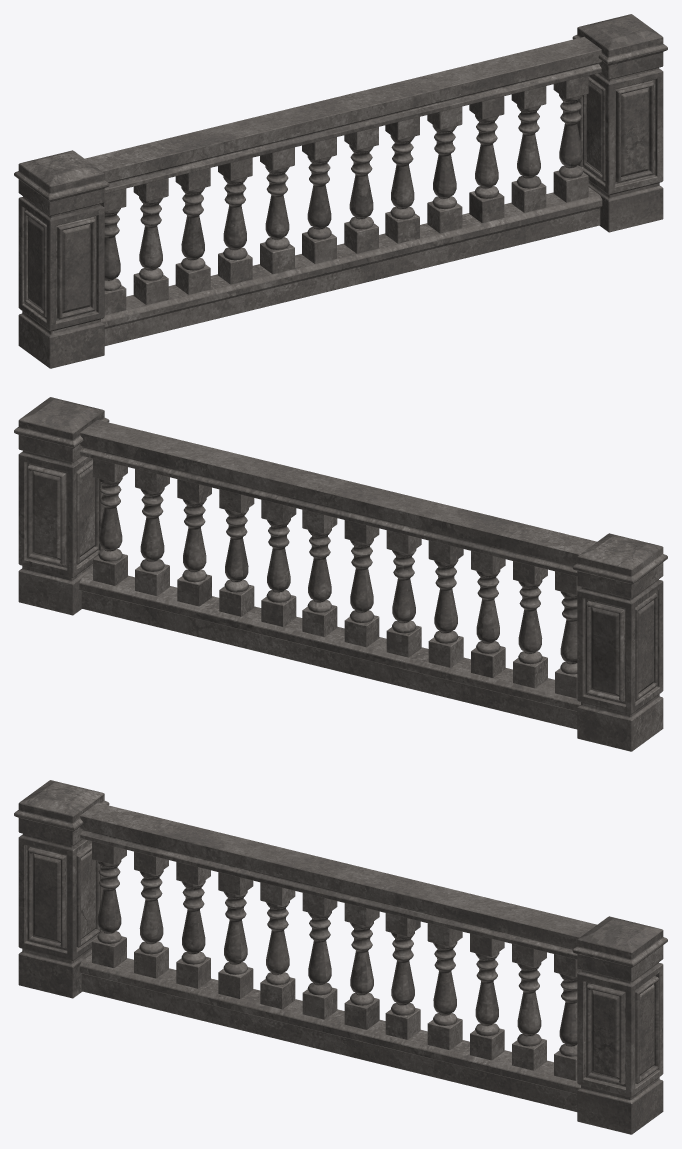
The model's file is SK6 RAILING LONG.fbx.
The picture shows the model from 3 angles, top to bottom: view 1: azimuth 30°, elevation 25°; view 2: azimuth 150°, elevation 25°; view 3: azimuth 330°, elevation 25°; orthographic projection.
Visible parts, largest first — view 1: SK6 RAILING LONG; view 2: SK6 RAILING LONG; view 3: SK6 RAILING LONG.
Boxes of the visible parts, box(x1,y1,x2,y2) form: SK6 RAILING LONG: box(14, 14, 667, 368); SK6 RAILING LONG: box(14, 397, 667, 751); SK6 RAILING LONG: box(14, 780, 667, 1134).
Size of the model in its own units: 404 by 116 by 39.62.
